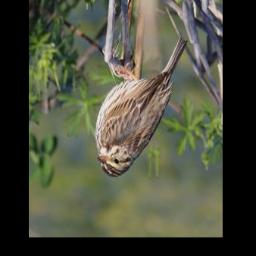Sparrow: (94, 36, 188, 179)
